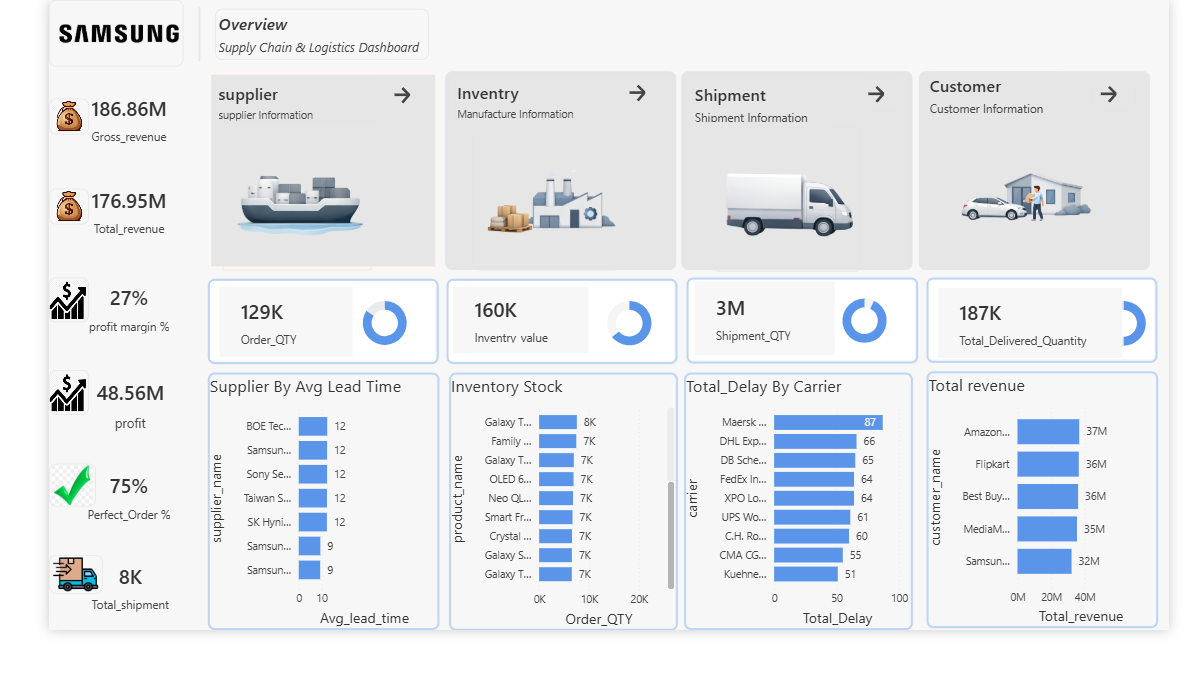

Layout of this report page (visuals, bound fields, positions):
{"tool":"powerbi","page":{"name":"Overview","canvas":[1280,720],"ordinal":1},"visuals":[{"type":"shape","box":[181.4,82,264,227],"z":0},{"type":"image","box":[198.7,144.4,169.6,164.8],"z":1000},{"type":"actionButton","box":[1197.7,90.7,48.8,31.2],"z":2000},{"type":"shape","title":"supplier","box":[190.7,90.7,194.2,48.8],"z":3000},{"type":"shape","title":"Overview","box":[196.2,10,243.8,58.8],"z":4000},{"type":"shape","box":[155,8.8,52.5,61.2],"z":5000},{"type":"image","box":[0,0,172.5,76.2],"z":6000},{"type":"cardVisual","fields":{"Data":["Sum(fact_sales.gross_revenue)"]},"box":[11.5,89,160,95],"z":7000},{"type":"cardVisual","fields":{"Data":["measuresTable.profit"]},"box":[12.5,412.5,160,100],"z":8000},{"type":"cardVisual","fields":{"Data":["measuresTable.profir margin %"]},"box":[12.8,297.7,160.5,108.1],"z":9000},{"type":"cardVisual","fields":{"Data":["measuresTable.Total_shipment"]},"box":[12.5,621.7,160,98.3],"z":10000},{"type":"cardVisual","fields":{"Data":["measuresTable.Perfect_Order %"]},"box":[11.7,519.6,160,95],"z":11000},{"type":"cardVisual","fields":{"Data":["measuresTable.Total_revenue"]},"box":[11.7,193.3,160,97.5],"z":12000},{"type":"actionButton","box":[928.9,90.7,46.2,32.5],"z":13000},{"type":"actionButton","box":[663.9,92,48.8,31.2],"z":14000},{"type":"actionButton","box":[385.2,90.7,48.8,35],"z":15000},{"type":"shape","title":"Manufacture","box":[462.7,90.7,160,48.8],"z":16000},{"type":"shape","title":"Shipment","box":[733.9,90.7,160,48.8],"z":17000},{"type":"shape","title":"Customer","box":[1011.4,90.7,160,48.8],"z":18000},{"type":"shape","box":[452.3,82,264,227],"z":19000},{"type":"shape","box":[723.1,82,264,227],"z":20000},{"type":"shape","box":[993.9,82,264,227],"z":21000},{"type":"shape","title":"Customer","box":[1002.5,81.2,160,58.8],"z":22000},{"type":"shape","title":"Shipment","box":[733.9,90.7,160,48.8],"z":23000},{"type":"shape","title":"Inventry","box":[462.2,88.9,160,48.9],"z":24000},{"type":"actionButton","box":[654.5,88.8,48.6,35.7],"z":25000},{"type":"actionButton","box":[1193,90.2,48.6,35.7],"z":26000},{"type":"actionButton","box":[927.3,90.2,48.6,35.7],"z":27000},{"type":"image","box":[484.7,144.4,169.6,164.8],"z":28000},{"type":"image","box":[758,144.4,170.6,166.7],"z":29000},{"type":"image","box":[1036.2,139.6,169.6,164.8],"z":30000},{"type":"cardVisual","fields":{"Data":["measuresTable.Order_QTY"]},"box":[189.5,317.4,162.8,90.7],"z":31000},{"type":"cardVisual","fields":{"Data":["measuresTable.Inventry_value"]},"box":[448.8,324.4,164,88.4],"z":32000},{"type":"cardVisual","fields":{"Data":["measuresTable.Total_shipment_Quantity"]},"box":[728.8,317.5,170,95],"z":33000},{"type":"cardVisual","fields":{"Data":["measuresTable.Total_Delivered_Quantity"]},"box":[1003,323,220,89],"z":34000},{"type":"clusteredBarChart","title":"Supplier By Avg Lead Time","fields":{"Y":["measuresTable.Avg_lead_time"],"Category":["dim_supplier.supplier_name"]},"box":[180.8,425.8,265,294.2],"z":35000},{"type":"clusteredBarChart","title":"Inventory Stock","fields":{"Category":["dim_product.product_name"],"Y":["measuresTable.Order_QTY"]},"box":[456.9,425,261.2,295],"z":36000},{"type":"clusteredBarChart","title":"Total revenue ","fields":{"Y":["measuresTable.Total_revenue"],"Category":["dim_customer.customer_name"]},"box":[1002.5,423.8,265,293.8],"z":37000},{"type":"donutChart","fields":{"Y":["Sum(fact_inventory.stock_level)","Sum(fact_inventory.safety_stock_level)"]},"box":[612.5,330,121.2,73.8],"z":38000},{"type":"donutChart","fields":{"Y":["measuresTable.Total_Delay","measuresTable.Total_shipment"]},"box":[874.4,324.4,104.7,74.4],"z":39000},{"type":"clusteredBarChart","title":"Total_Delay By Carrier","fields":{"Y":["measuresTable.Total_Delay"],"Category":["fact_shipment.carrier"]},"box":[726.1,425.6,261.6,294.2],"z":40000},{"type":"image","box":[15.2,123.2,31.2,31.2],"z":41000},{"type":"image","box":[15.2,226.8,34,32],"z":42000},{"type":"image","box":[16.8,639.2,54.4,37.6],"z":43000},{"type":"image","box":[19.6,330,38.8,32.8],"z":44000},{"type":"image","box":[16.8,441.2,36.8,34.8],"z":45000},{"type":"image","box":[19.6,543.6,37.6,34.8],"z":46000},{"type":"shape","box":[181.3,318.7,264,97.3],"z":47000},{"type":"cardVisual","fields":{"Data":["measuresTable.Order_QTY"]},"box":[189.3,322.1,162.9,90.7],"z":48000},{"type":"donutChart","fields":{"Y":["measuresTable.Order_QTY","measuresTable.Defect_Rate"]},"box":[322.9,332.1,122.1,72.9],"z":49000},{"type":"shape","box":[454.9,319.2,263.8,97.7],"z":50000},{"type":"cardVisual","fields":{"Data":["measuresTable.Inventry_value"]},"box":[457.8,322.2,164.4,86.7],"z":51000},{"type":"donutChart","fields":{"Y":["Sum(fact_inventory.stock_level)","Sum(fact_inventory.safety_stock_level)"]},"box":[603.3,332.2,121.1,73.3],"z":52000},{"type":"shape","box":[728.4,317.3,264.5,98.2],"z":53000},{"type":"cardVisual","fields":{"Data":["measuresTable.Total_shipment_Quantity"]},"box":[733.3,317.8,170,94.4],"z":54000},{"type":"donutChart","fields":{"Y":["measuresTable.Total_Delay","measuresTable.Total_shipment"]},"box":[880,330,104.4,73.3],"z":55000},{"type":"shape","box":[1002.5,317.5,263.8,97.5],"z":56000},{"type":"donutChart","fields":{"Y":["measuresTable.Total_Delivered_Quantity","measuresTable.Total_QTY_Delay"]},"box":[1175,332.5,105,73.8],"z":57000},{"type":"cardVisual","fields":{"Data":["measuresTable.Total_Delivered_Quantity"]},"box":[1011.2,325,220,90],"z":58000}]}

Visuals, with their boxes in screenshot pixels (x1, y1, x2, y2), scaled from the page's 1280x720 canvas onto the 1200x687 screenshot:
shape: x1=170, y1=78, x2=418, y2=295
image: x1=186, y1=138, x2=345, y2=295
actionButton: x1=1123, y1=87, x2=1169, y2=116
"supplier" shape: x1=179, y1=87, x2=361, y2=133
"Overview" shape: x1=184, y1=10, x2=412, y2=66
shape: x1=145, y1=8, x2=195, y2=67
image: x1=0, y1=0, x2=162, y2=73
cardVisual - Sum(fact_sales.gross_revenue): x1=11, y1=85, x2=161, y2=176
cardVisual - measuresTable.profit: x1=12, y1=394, x2=162, y2=489
cardVisual - measuresTable.profir margin %: x1=12, y1=284, x2=162, y2=387
cardVisual - measuresTable.Total_shipment: x1=12, y1=593, x2=162, y2=686
cardVisual - measuresTable.Perfect_Order %: x1=11, y1=496, x2=161, y2=586
cardVisual - measuresTable.Total_revenue: x1=11, y1=184, x2=161, y2=277
actionButton: x1=871, y1=87, x2=914, y2=118
actionButton: x1=622, y1=88, x2=668, y2=118
actionButton: x1=361, y1=87, x2=407, y2=120
"Manufacture" shape: x1=434, y1=87, x2=584, y2=133
"Shipment" shape: x1=688, y1=87, x2=838, y2=133
"Customer" shape: x1=948, y1=87, x2=1098, y2=133
shape: x1=424, y1=78, x2=672, y2=295
shape: x1=678, y1=78, x2=925, y2=295
shape: x1=932, y1=78, x2=1179, y2=295
"Customer" shape: x1=940, y1=77, x2=1090, y2=134
"Shipment" shape: x1=688, y1=87, x2=838, y2=133
"Inventry" shape: x1=433, y1=85, x2=583, y2=131
actionButton: x1=614, y1=85, x2=659, y2=119
actionButton: x1=1118, y1=86, x2=1164, y2=120
actionButton: x1=869, y1=86, x2=915, y2=120
image: x1=454, y1=138, x2=613, y2=295
image: x1=711, y1=138, x2=871, y2=297
image: x1=971, y1=133, x2=1130, y2=290
cardVisual - measuresTable.Order_QTY: x1=178, y1=303, x2=330, y2=389
cardVisual - measuresTable.Inventry_value: x1=421, y1=310, x2=574, y2=394
cardVisual - measuresTable.Total_shipment_Quantity: x1=683, y1=303, x2=843, y2=394
cardVisual - measuresTable.Total_Delivered_Quantity: x1=940, y1=308, x2=1147, y2=393
"Supplier By Avg Lead Time" clusteredBarChart: x1=170, y1=406, x2=418, y2=686
"Inventory Stock" clusteredBarChart: x1=428, y1=406, x2=673, y2=686
"Total revenue " clusteredBarChart: x1=940, y1=404, x2=1188, y2=685
donutChart - Sum(fact_inventory.stock_level) x Sum(fact_inventory.safety_stock_level): x1=574, y1=315, x2=688, y2=385
donutChart - measuresTable.Total_Delay x measuresTable.Total_shipment: x1=820, y1=310, x2=918, y2=381
"Total_Delay By Carrier" clusteredBarChart: x1=681, y1=406, x2=926, y2=686
image: x1=14, y1=118, x2=44, y2=147
image: x1=14, y1=216, x2=46, y2=247
image: x1=16, y1=610, x2=67, y2=646
image: x1=18, y1=315, x2=55, y2=346
image: x1=16, y1=421, x2=50, y2=454
image: x1=18, y1=519, x2=54, y2=552
shape: x1=170, y1=304, x2=417, y2=397
cardVisual - measuresTable.Order_QTY: x1=177, y1=307, x2=330, y2=394
donutChart - measuresTable.Order_QTY x measuresTable.Defect_Rate: x1=303, y1=317, x2=417, y2=386
shape: x1=426, y1=305, x2=674, y2=398
cardVisual - measuresTable.Inventry_value: x1=429, y1=307, x2=583, y2=390
donutChart - Sum(fact_inventory.stock_level) x Sum(fact_inventory.safety_stock_level): x1=566, y1=317, x2=679, y2=387
shape: x1=683, y1=303, x2=931, y2=396
cardVisual - measuresTable.Total_shipment_Quantity: x1=687, y1=303, x2=847, y2=393
donutChart - measuresTable.Total_Delay x measuresTable.Total_shipment: x1=825, y1=315, x2=923, y2=385
shape: x1=940, y1=303, x2=1187, y2=396
donutChart - measuresTable.Total_Delivered_Quantity x measuresTable.Total_QTY_Delay: x1=1102, y1=317, x2=1199, y2=388
cardVisual - measuresTable.Total_Delivered_Quantity: x1=948, y1=310, x2=1154, y2=396
